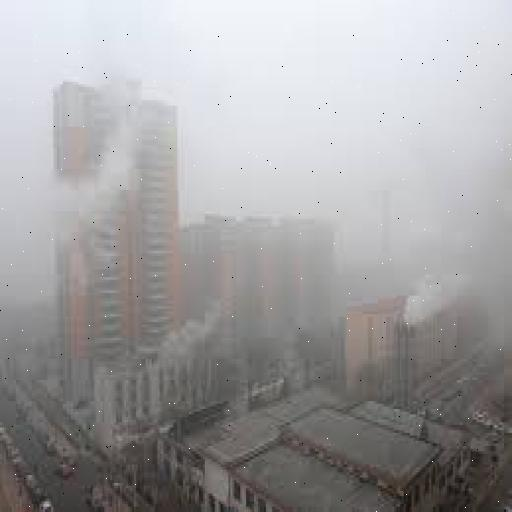smoke: (16, 10, 510, 301)
